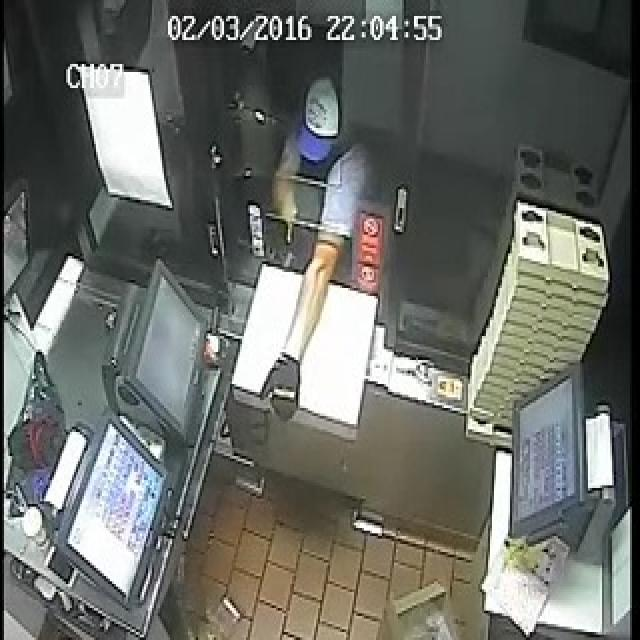thief: (294, 52, 378, 245)
